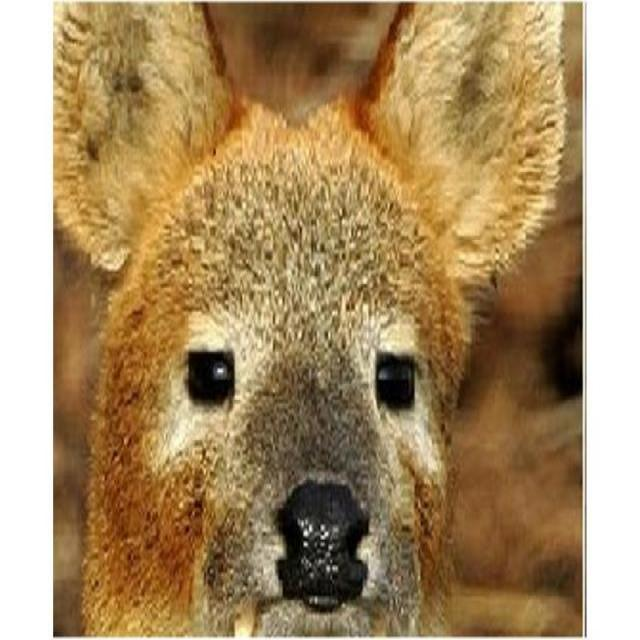deer: (52, 0, 570, 640)
